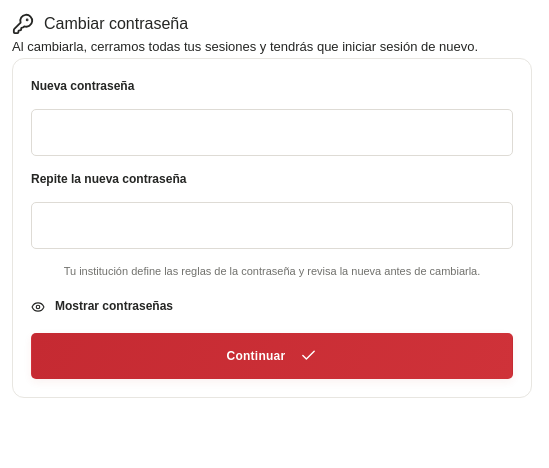
Test: ChangePasswordSection › does not go on with an empty form or with two different passwords, and asks the server nothing
Click the button "Continuar".
click(272, 356)  # box [31,333,513,379]
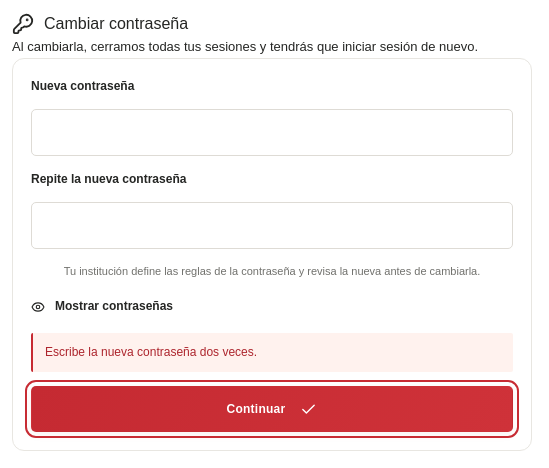
Check: the message shows "dos veces", box [45,345,257,359]
Type "New-pass-1234!" into the password field labelled "Nueva contraseña".
click(272, 133); type("New-pass-1234!")  # box [31,109,513,156]
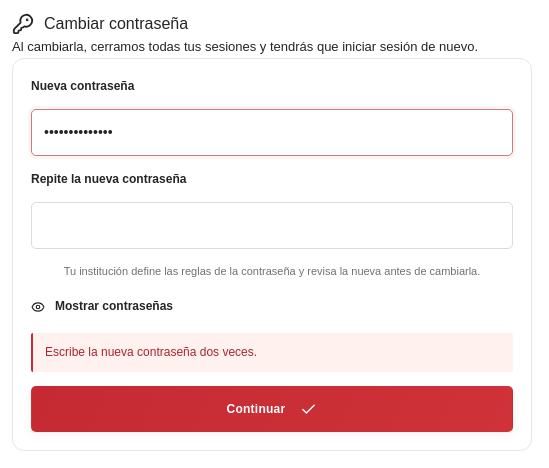
Type "Other-pass-1!" into the password field labelled "Repite la nueva contraseña".
click(272, 226); type("Other-pass-1!")  # box [31,202,513,249]
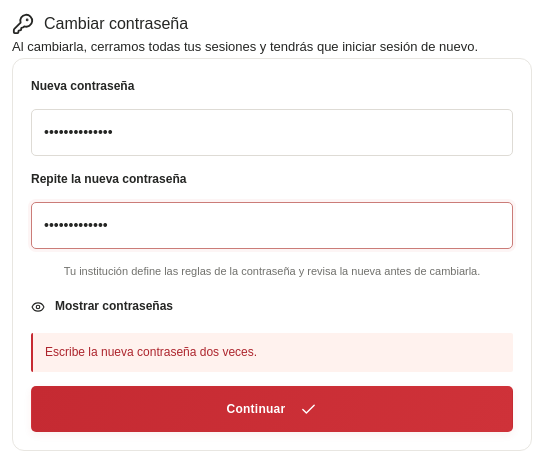
Click the button "Continuar".
click(272, 409)  # box [31,386,513,432]
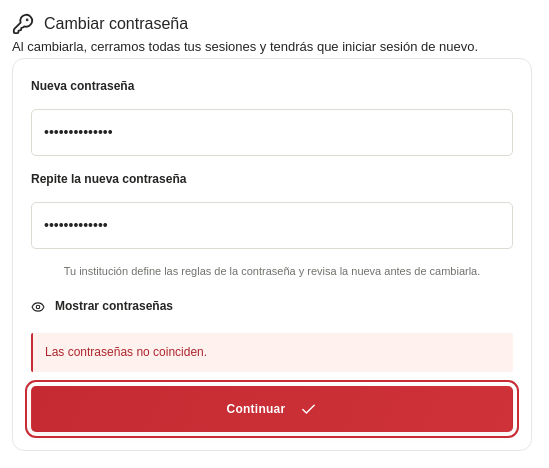
Check: the message shows "no coinciden", box [45,345,207,359]
